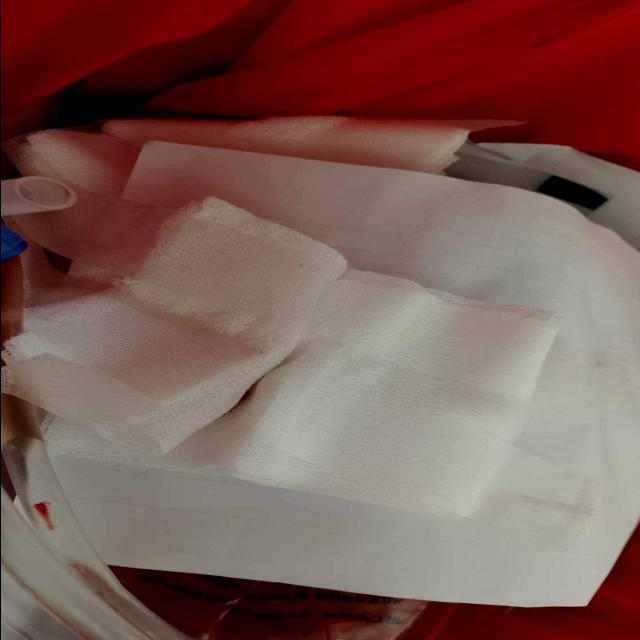Pathological: (5, 115, 638, 610)
Sharps: (2, 436, 196, 639), (442, 142, 610, 212)
